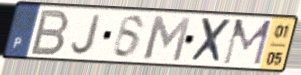6: (111, 14, 148, 59)
B: (27, 8, 72, 57)
J: (70, 12, 105, 56)
M: (221, 18, 275, 67), (142, 13, 194, 63)
X: (188, 17, 234, 66)
